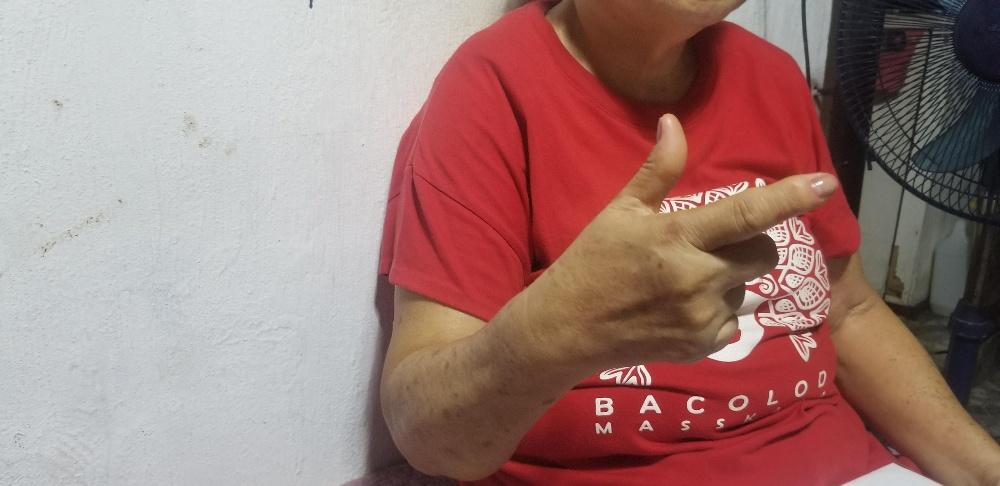g: (590, 111, 839, 366)
